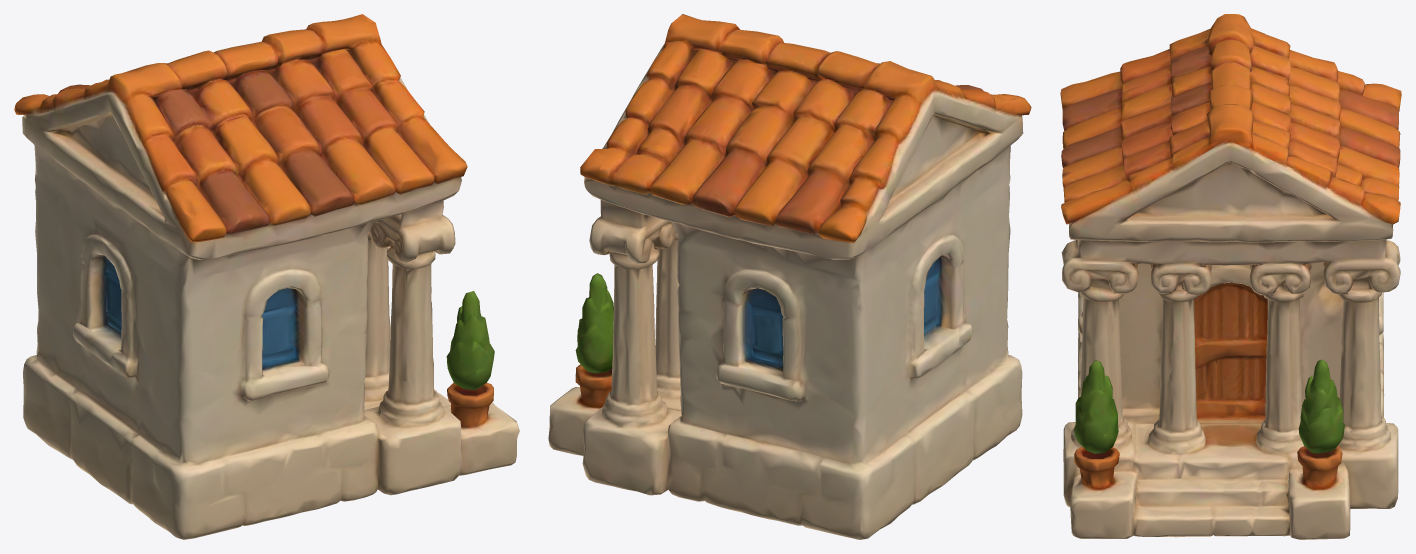
Rendered from hall.glb.
The picture shows the model from 3 angles, left to right: view 1: azimuth 30°, elevation 25°; view 2: azimuth 150°, elevation 25°; view 3: azimuth 270°, elevation 25°; orthographic projection. The views are drawn at different scales.
Parts seen in each view (by area): view 1: tripo_node_0378338d-ce2f-4620-8eaa-636cd6a85f18; view 2: tripo_node_0378338d-ce2f-4620-8eaa-636cd6a85f18; view 3: tripo_node_0378338d-ce2f-4620-8eaa-636cd6a85f18.
Boxes of the visible parts, x1,y1,x2,y2 form: tripo_node_0378338d-ce2f-4620-8eaa-636cd6a85f18: (14,14,519,539); tripo_node_0378338d-ce2f-4620-8eaa-636cd6a85f18: (548,14,1031,539); tripo_node_0378338d-ce2f-4620-8eaa-636cd6a85f18: (1060,14,1401,539).
Size of the model in its own units: 0.8715 by 1 by 0.8035.
1 material, 1 textured.
